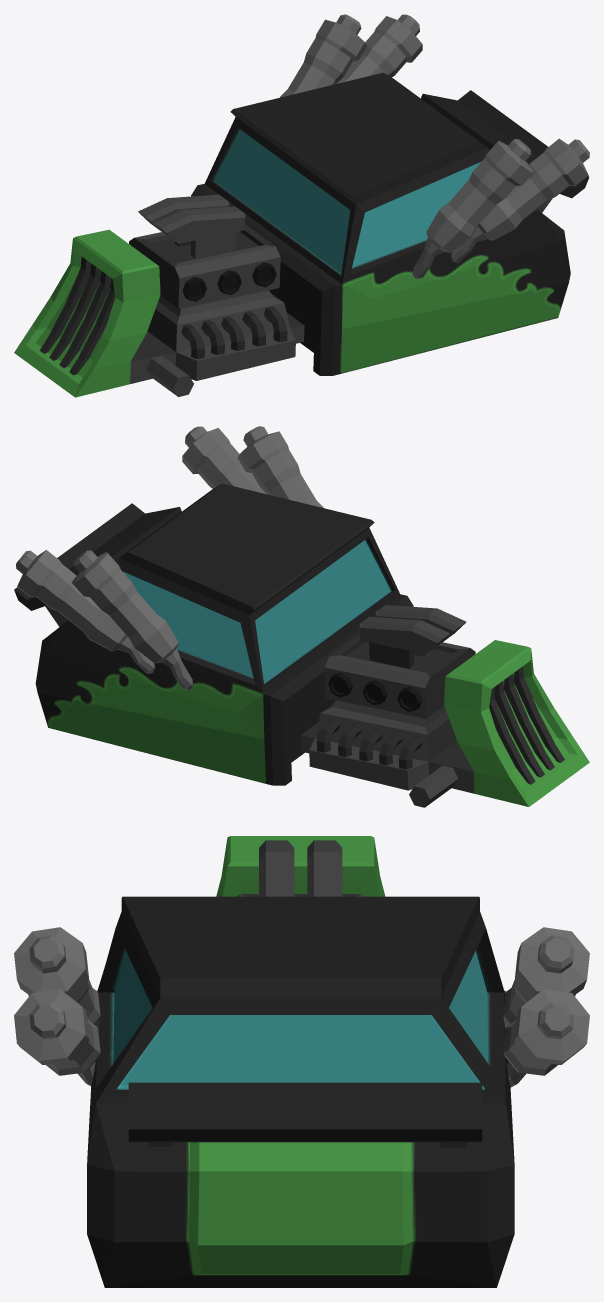
File: Vehicle_001_Hotrod_001_Base.fbx
The picture shows the model from 3 angles, top to bottom: view 1: azimuth 30°, elevation 25°; view 2: azimuth 150°, elevation 25°; view 3: azimuth 270°, elevation 25°; orthographic projection. The views are drawn at different scales.
Visible parts, largest first — view 1: Vehicle_001_Hotrod_001_Base; view 2: Vehicle_001_Hotrod_001_Base; view 3: Vehicle_001_Hotrod_001_Base.
Boxes of the visible parts, <box> form: Vehicle_001_Hotrod_001_Base: <box>14,14,589,397</box>; Vehicle_001_Hotrod_001_Base: <box>14,426,589,807</box>; Vehicle_001_Hotrod_001_Base: <box>14,836,589,1287</box>.
Size of the model in its own units: 300 by 121 by 206.
